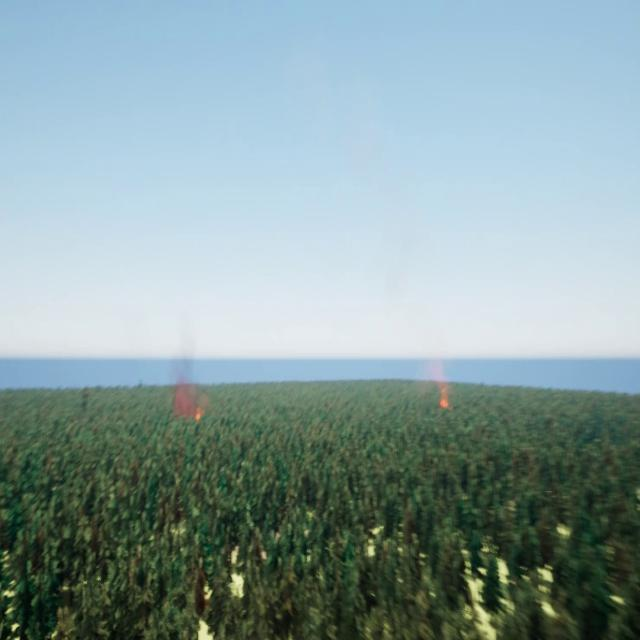smoke: (173, 357, 214, 421), (432, 361, 454, 416)
